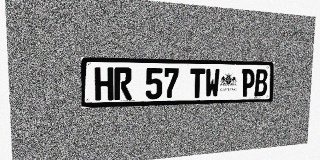5: (146, 68, 163, 99)
7: (163, 68, 179, 99)
B: (254, 69, 268, 96)
H: (95, 67, 114, 101)
P: (241, 69, 255, 97)
R: (114, 67, 132, 100)
T: (190, 68, 205, 98)
W: (205, 69, 220, 98)
